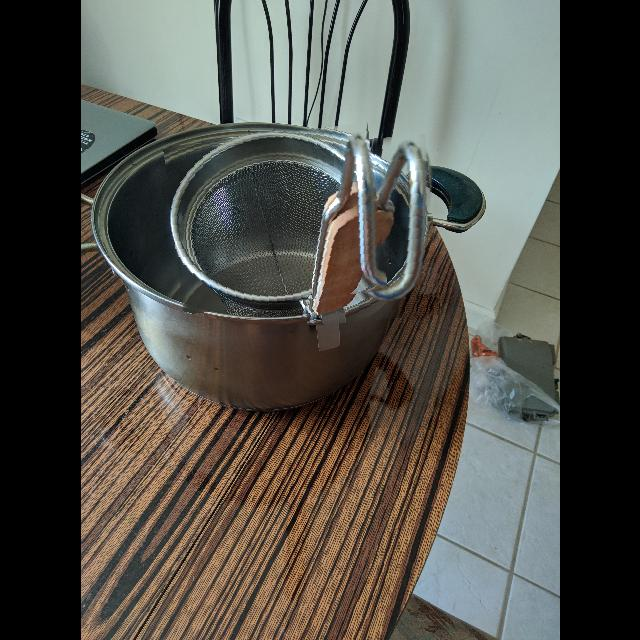Handle: (307, 136, 428, 325)
Strainer: (176, 130, 375, 306)
